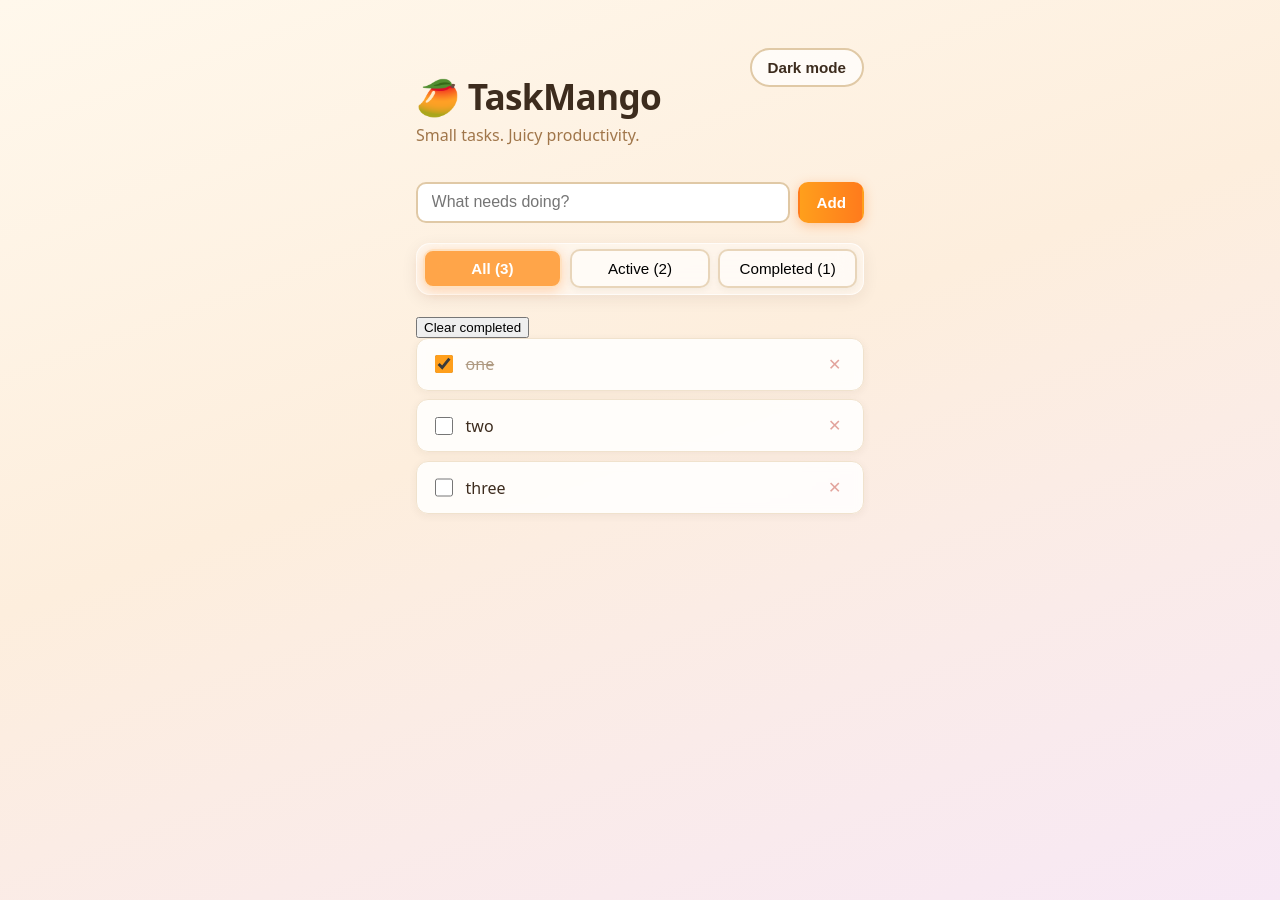
Test: App › deletes the selected task when the active filter hides earlier tasks
Click the button "Active (2)".
click(640, 269)  # box 570,249 -> 710,288
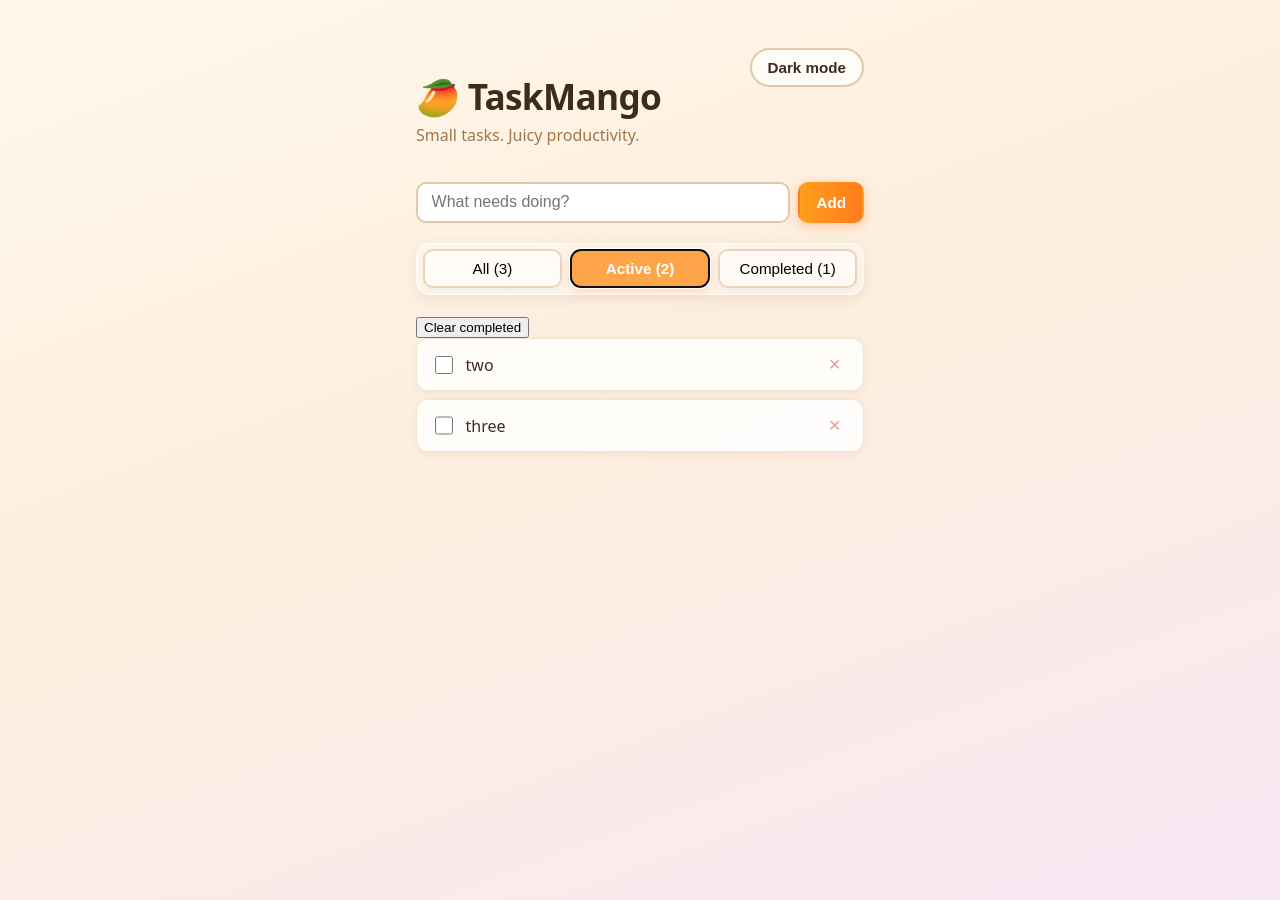
Click the button named "Delete task".
click(835, 364)  # box 820,350 -> 849,378
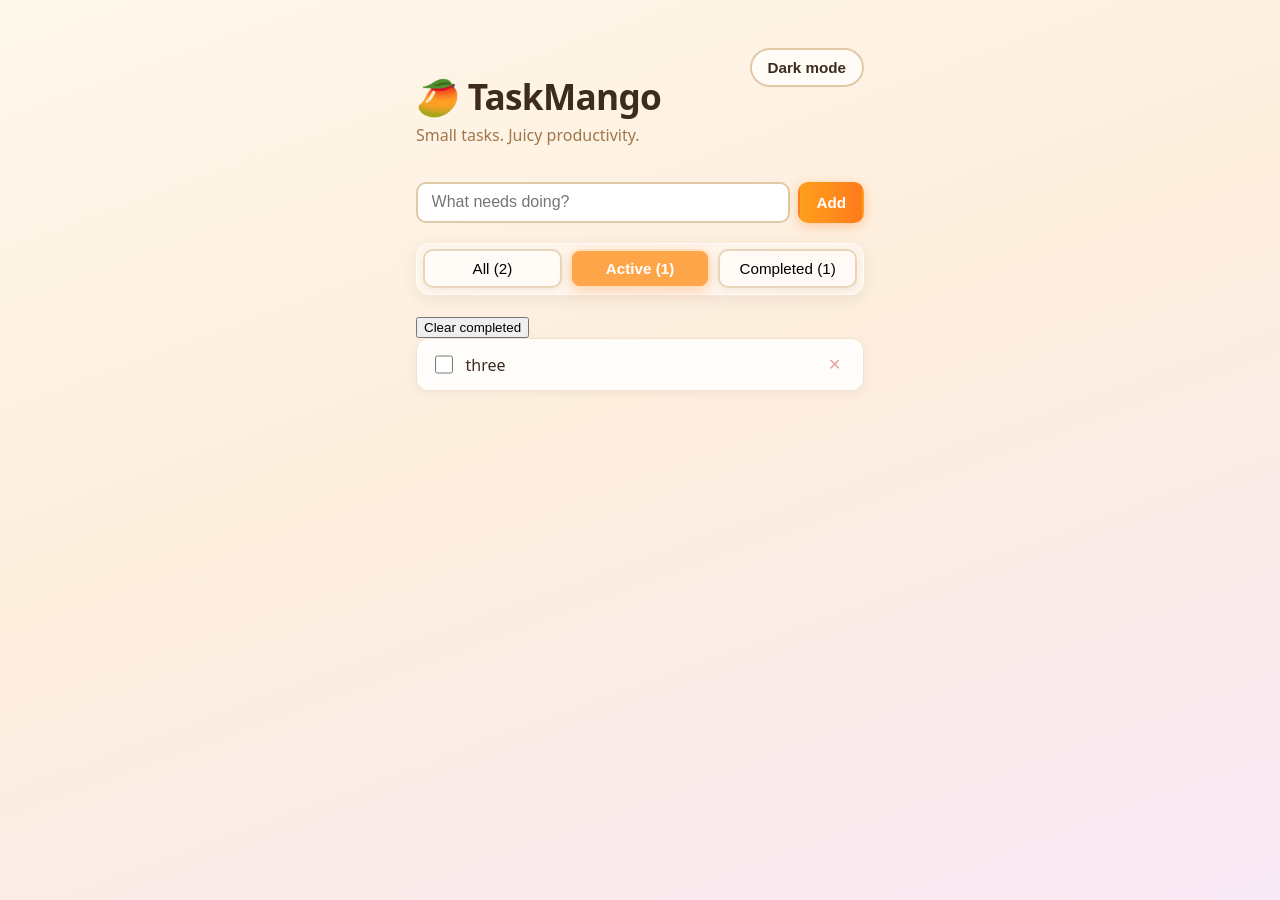
Expected: the text "three" is shown, 466,353 -> 506,375
Expected: the text "two" is gone
Click the button "All (2)".
click(492, 269)  # box 423,249 -> 562,288
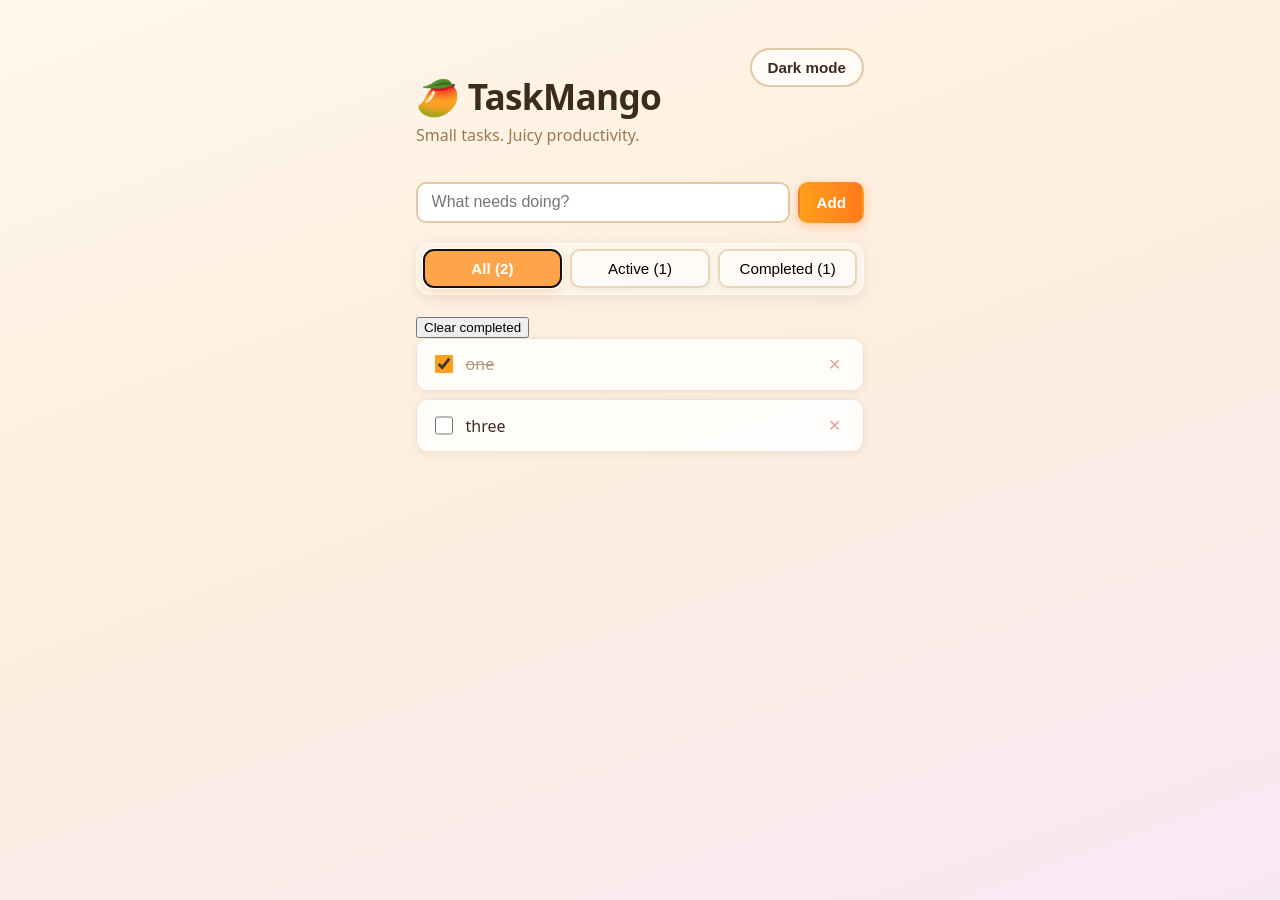
Expected: the text "one" is shown, 466,353 -> 494,375
